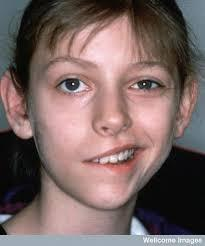strokeEyeMid: (43, 59, 172, 99)
strokeMouthSevere: (80, 140, 152, 171)
